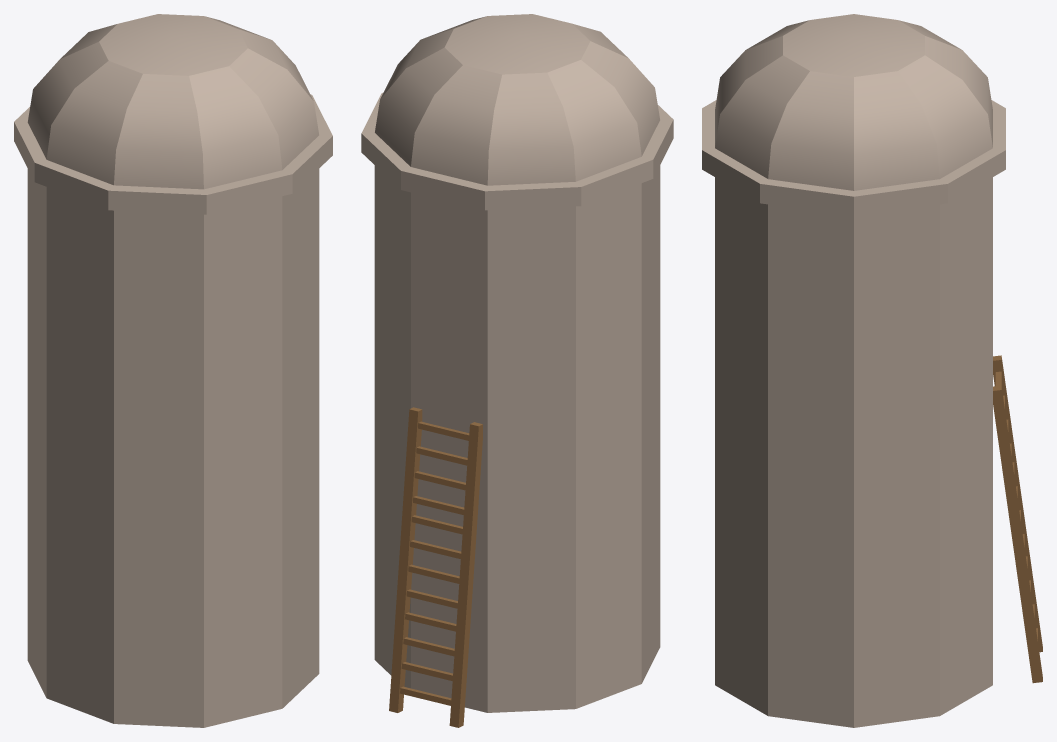
The model's file is watertank.fbx.
3 renders of one model, left to right at view 1: azimuth 30°, elevation 25°; view 2: azimuth 150°, elevation 25°; view 3: azimuth 270°, elevation 25°, orthographic. The views are drawn at different scales.
Visible parts, largest first — view 1: pCylinder5; view 2: pCylinder5, polySurface4; view 3: pCylinder5, polySurface4.
Part boxes in pixels (box(x1,y1,x2,y2)): pCylinder5: box(14, 14, 332, 727); pCylinder5: box(361, 14, 673, 712); polySurface4: box(389, 407, 482, 727); pCylinder5: box(702, 14, 1005, 727); polySurface4: box(993, 355, 1042, 683).
Bounding box in the file's own units: 6.44 × 13.99 × 6.86.
